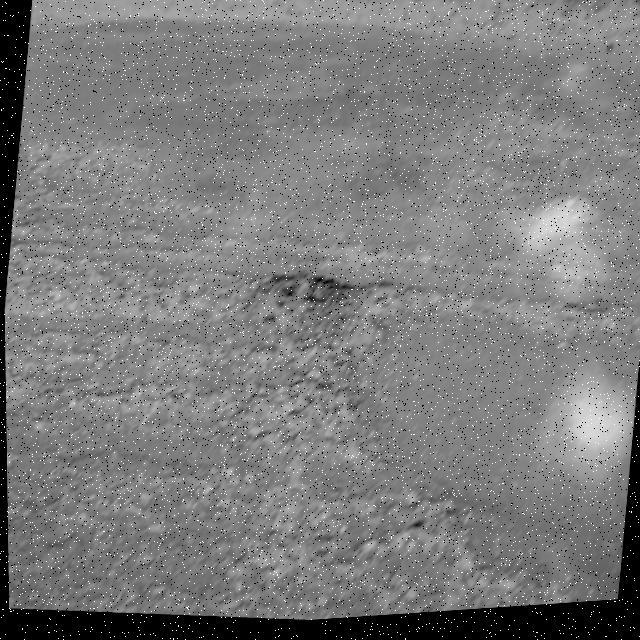pothole: (208, 253, 402, 478)
